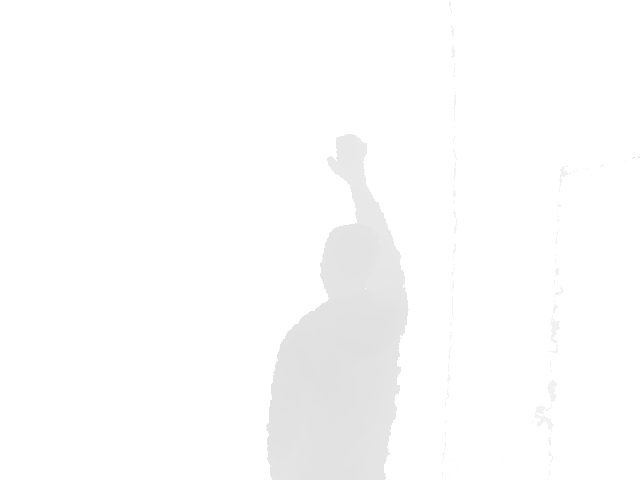hand: (326, 134, 368, 185)
head: (319, 222, 387, 304)
person: (264, 134, 410, 480)
